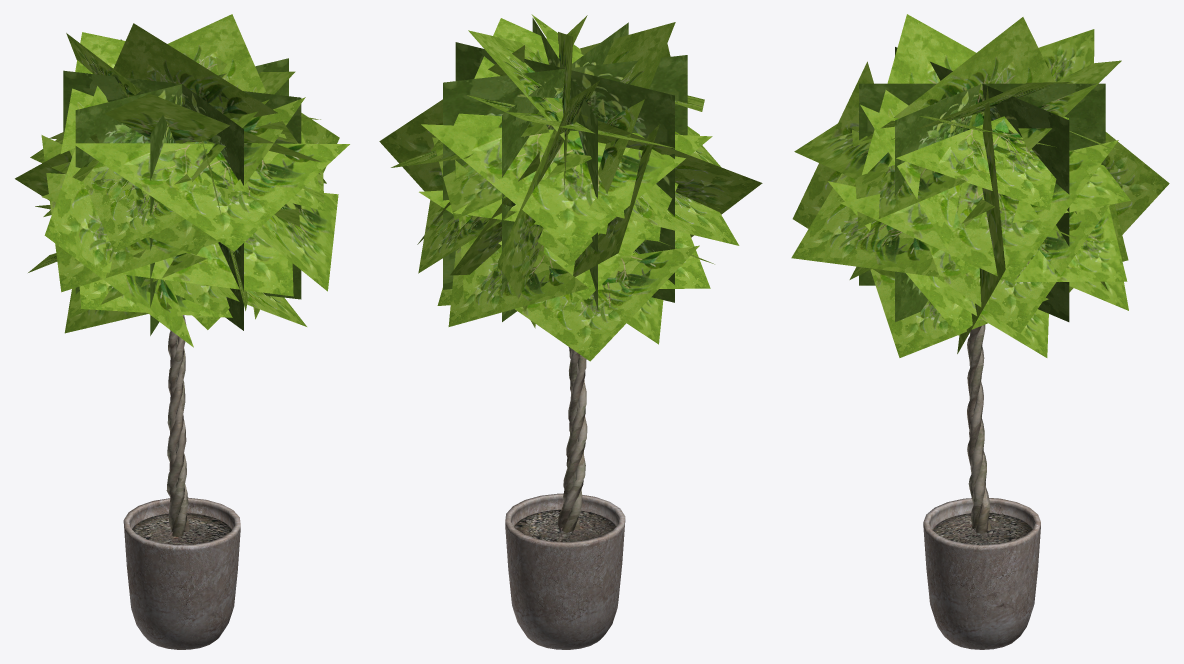
File: Furniture_foliageplant_07_LOD0.fbx
3 views of the same model, side by side, from view 1: azimuth 30°, elevation 25°; view 2: azimuth 150°, elevation 25°; view 3: azimuth 270°, elevation 25° (orthographic). The views are drawn at different scales.
Parts seen in each view (by area): view 1: F_foliageplant_07_2, F_foliageplant_07_4, F_foliageplant_07_1; view 2: F_foliageplant_07_2, F_foliageplant_07_4, F_foliageplant_07_1; view 3: F_foliageplant_07_2, F_foliageplant_07_4, F_foliageplant_07_1.
Part boxes in pixels (x1,y1,x2,y2): F_foliageplant_07_2: [15, 14, 349, 347]; F_foliageplant_07_4: [123, 497, 240, 649]; F_foliageplant_07_1: [166, 315, 190, 536]; F_foliageplant_07_2: [379, 14, 762, 361]; F_foliageplant_07_4: [505, 493, 625, 649]; F_foliageplant_07_1: [557, 347, 587, 532]; F_foliageplant_07_2: [791, 14, 1169, 357]; F_foliageplant_07_4: [923, 498, 1040, 649]; F_foliageplant_07_1: [967, 324, 991, 533].
Size of the model in its own units: 1.18 by 2.03 by 1.15.
Materials: 2 (2 with a texture image).
